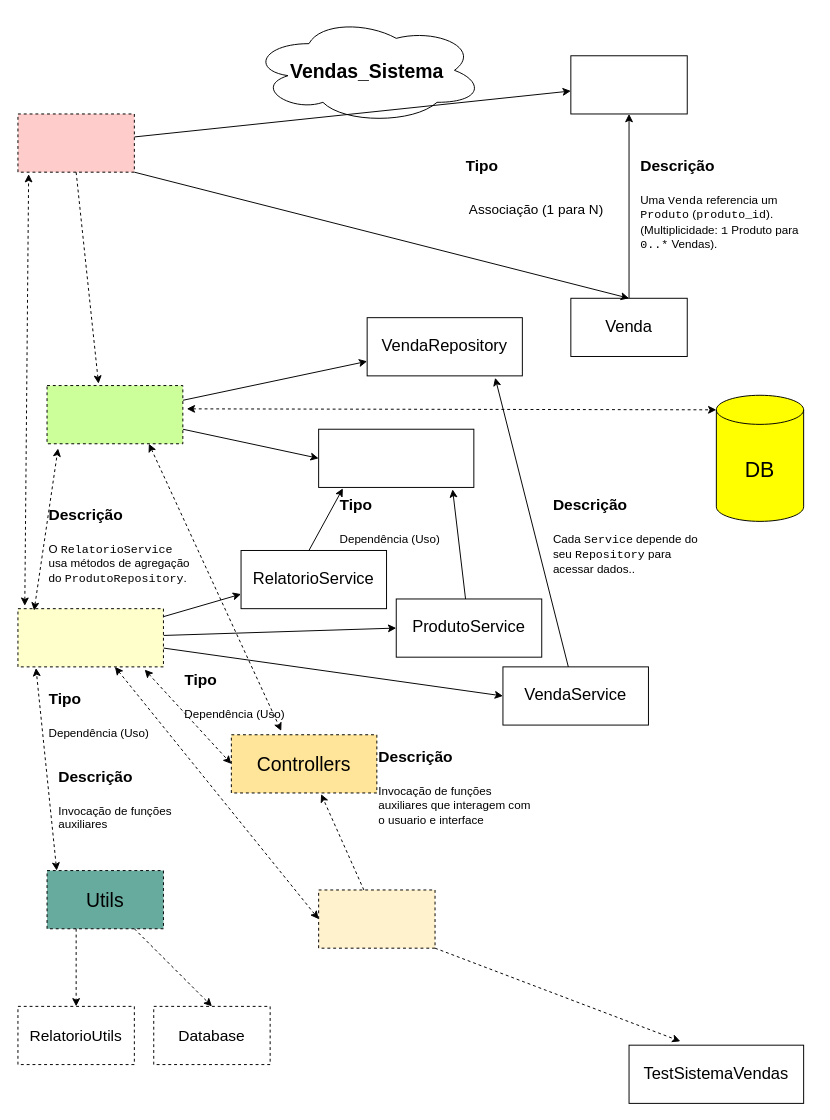
This 830x1120 diagram has some shape labels left out. Here are the shapes that lost their labels. From the top down, the centre of each, then its label:
the point at 628,84: Produto
the point at 75,142: Models
the point at 114,414: Repositories
the point at 396,457: ProdutoRepository
the point at 90,637: Services
the point at 376,918: Main
